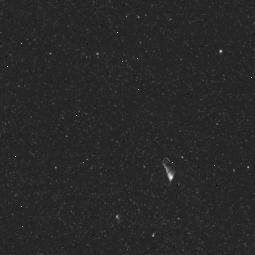debris: (154, 149, 185, 193)
